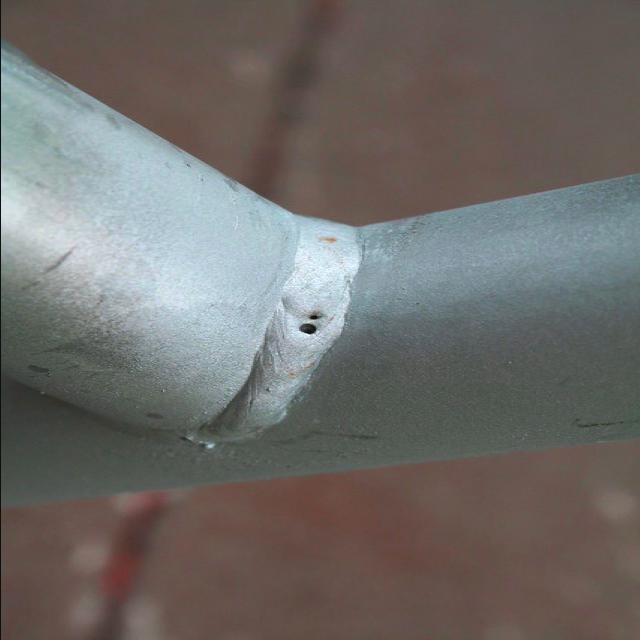Dry Waste: (53, 130, 580, 505)
